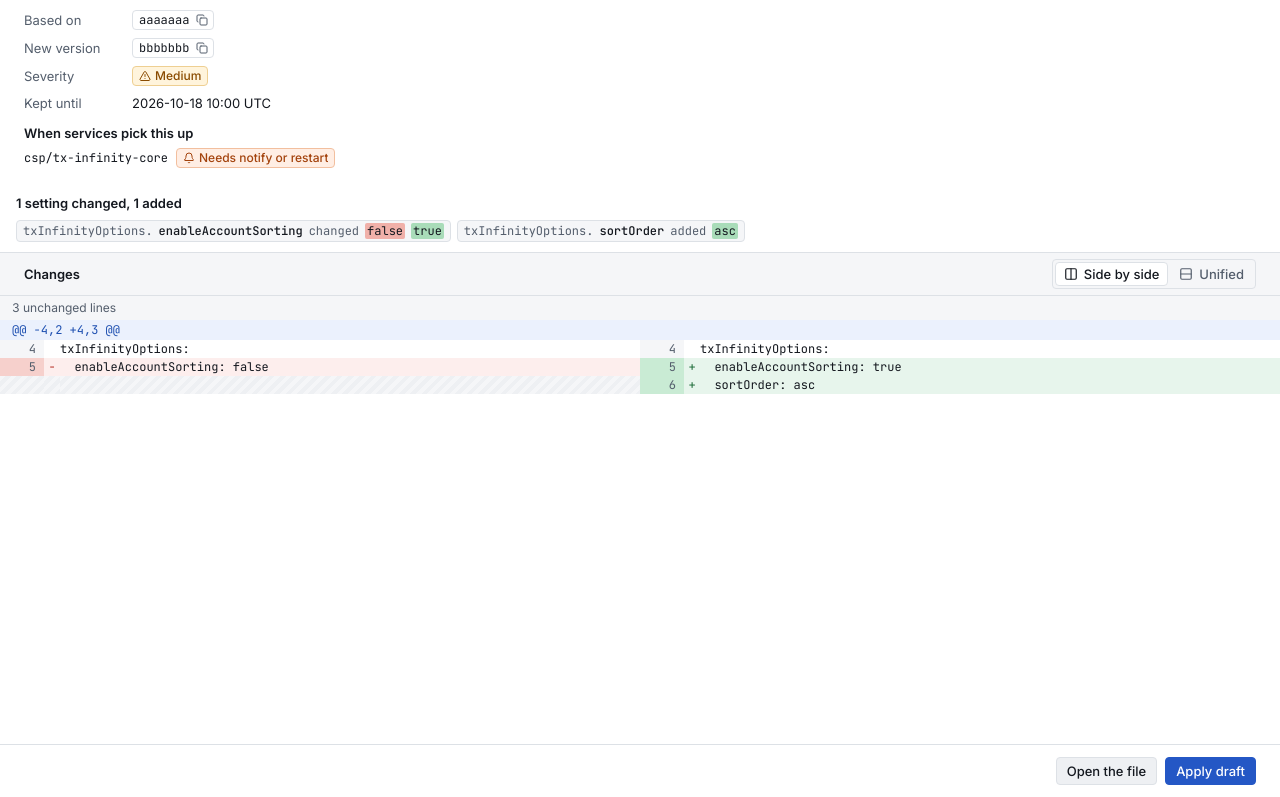
Test: DraftPage: applying › applies with the CSRF token and an idempotency key, and says it is applied only after the server did
(page scrolled)
What coordinates should you click on to do the following:
click the button "Apply draft"
I would click on:
 (1211, 771)
Its box is [1165,757,1256,785].
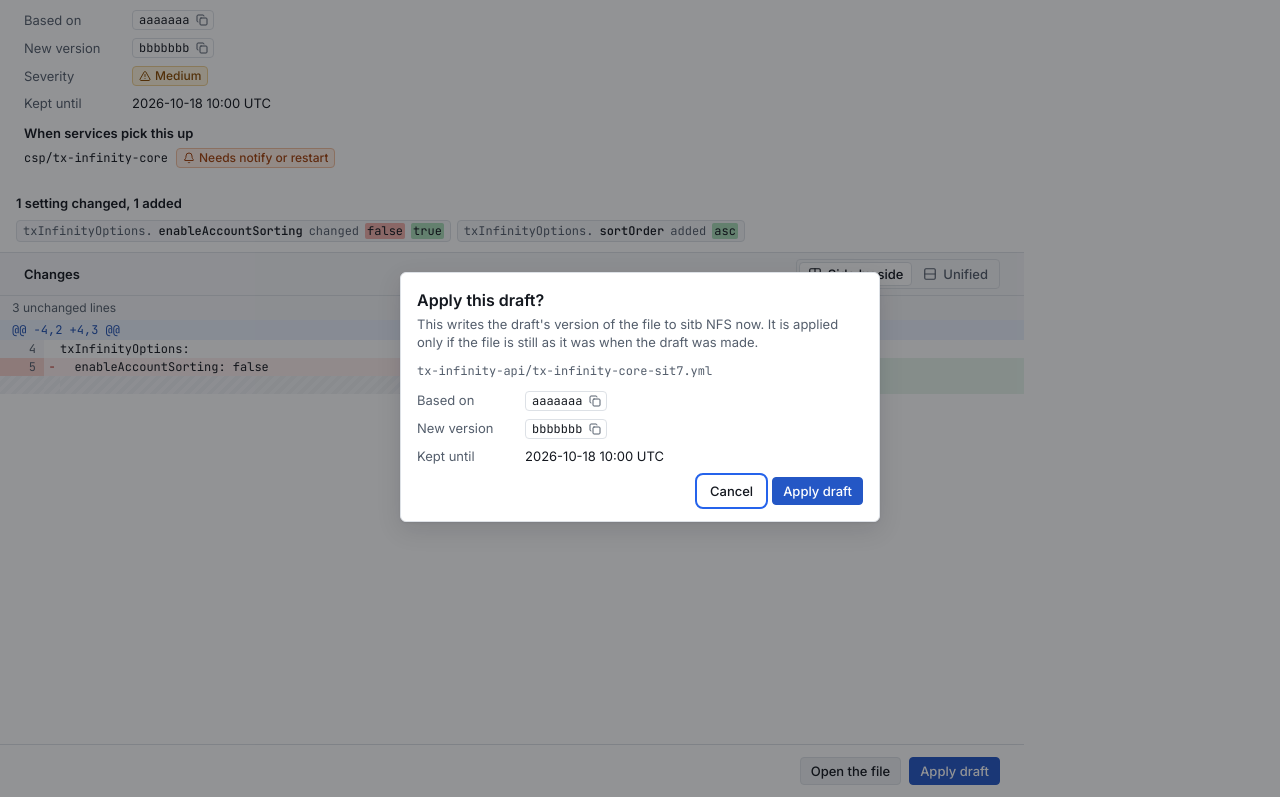
What coordinates should you click on to do the following:
click the button "Apply draft"
I would click on:
 (818, 491)
Its box is [772,477,863,505].
(page scrolled)
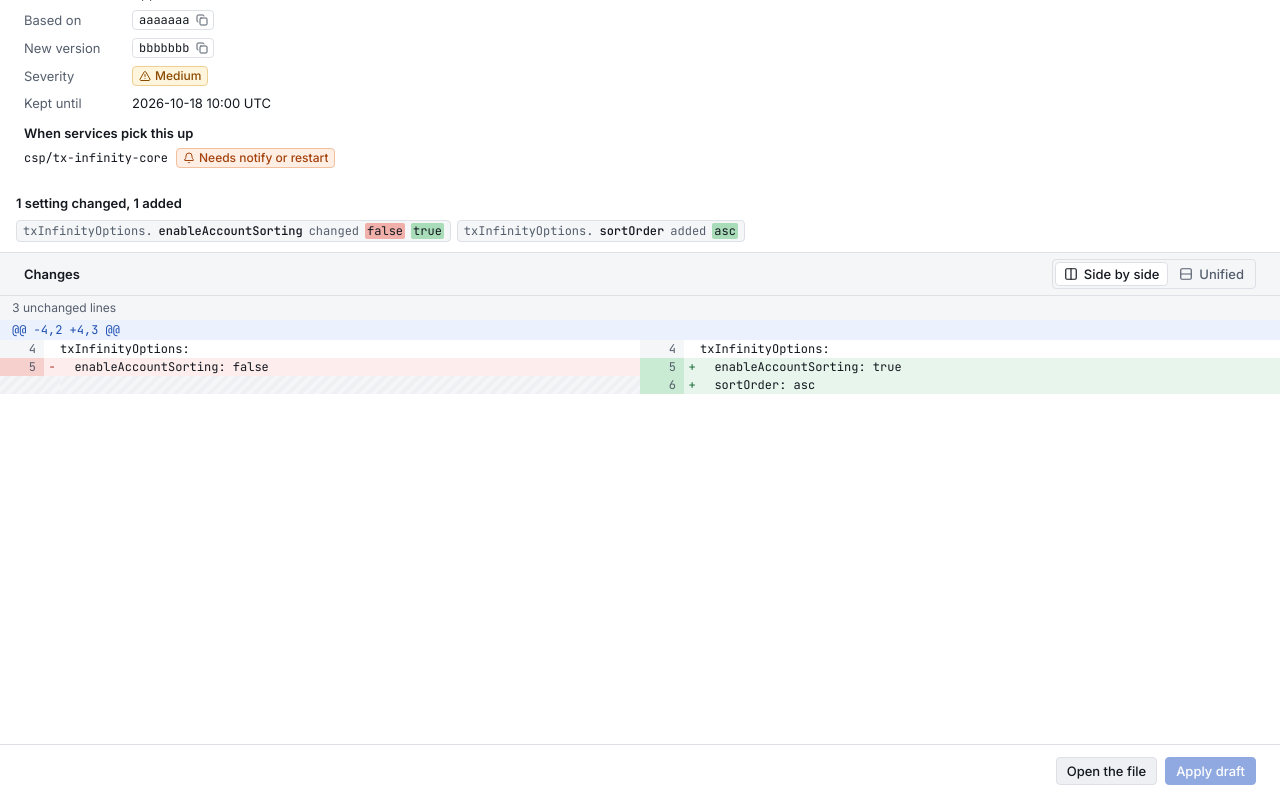
Check: the dialog is gone
